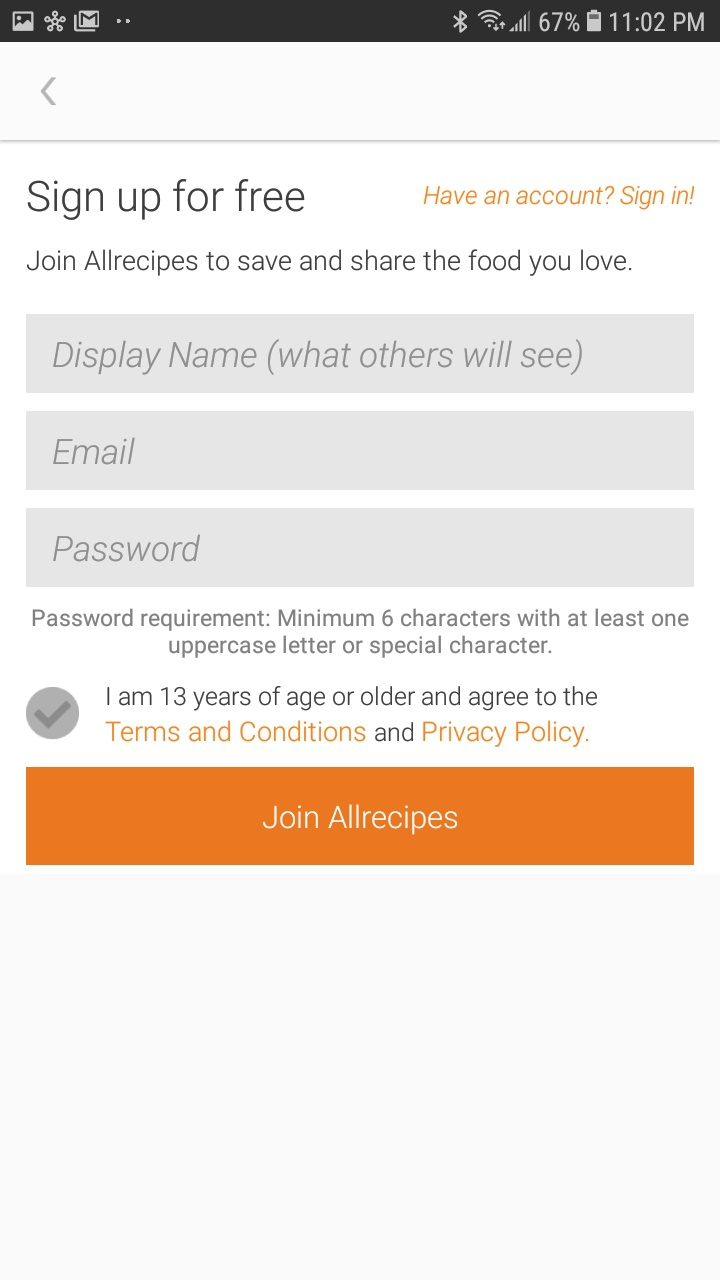CheckedTextView: (25, 684, 599, 748)
EditText: (27, 315, 694, 394), (27, 412, 694, 491), (27, 509, 694, 588)
Icon: (41, 78, 58, 107)
Text: (33, 608, 689, 659), (105, 685, 598, 748), (53, 338, 583, 376), (27, 248, 632, 277), (28, 179, 306, 221), (424, 185, 695, 211), (53, 534, 201, 563), (54, 438, 136, 466)
TextButton: (27, 767, 695, 866)
UpperTaskBar: (1, 1, 720, 43)
